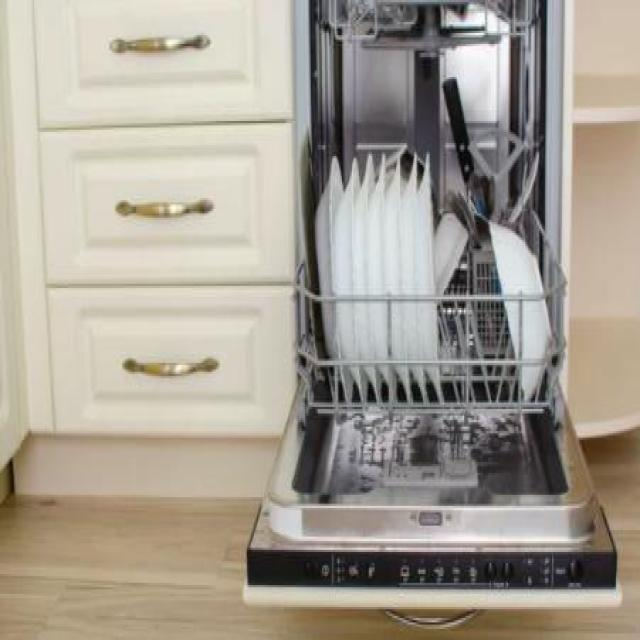dishwasher: (242, 2, 614, 607)
